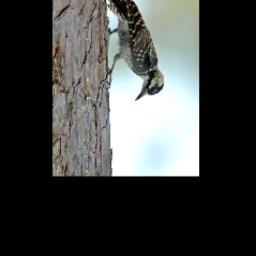Woodpecker: (100, 0, 166, 102)
